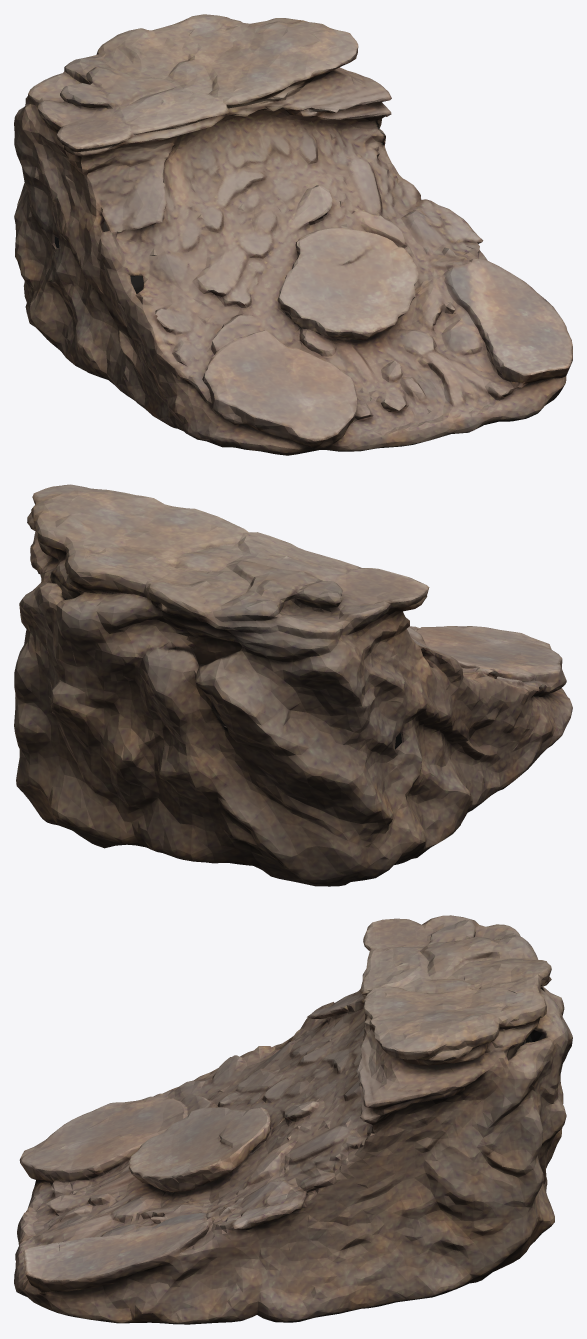
The picture shows the model from 3 angles, top to bottom: view 1: azimuth 30°, elevation 25°; view 2: azimuth 150°, elevation 25°; view 3: azimuth 270°, elevation 25°; orthographic projection. The views are drawn at different scales.
Parts seen in each view (by area): view 1: world; view 2: world; view 3: world.
Part boxes in pixels (<box>): world: <box>14,14,572,455</box>; world: <box>14,484,572,886</box>; world: <box>14,915,572,1324</box>.
Bounding box in the file's own units: 2.03 × 1.34 × 2.5.
1 material, 1 textured.
